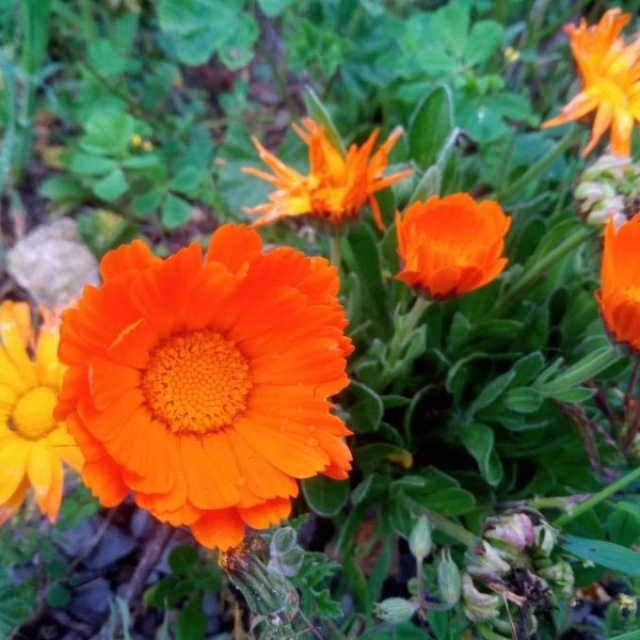obstacle: (32, 145, 567, 606)
